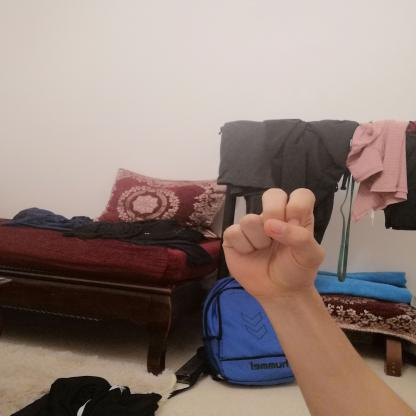QAAF: (208, 180, 337, 308)
